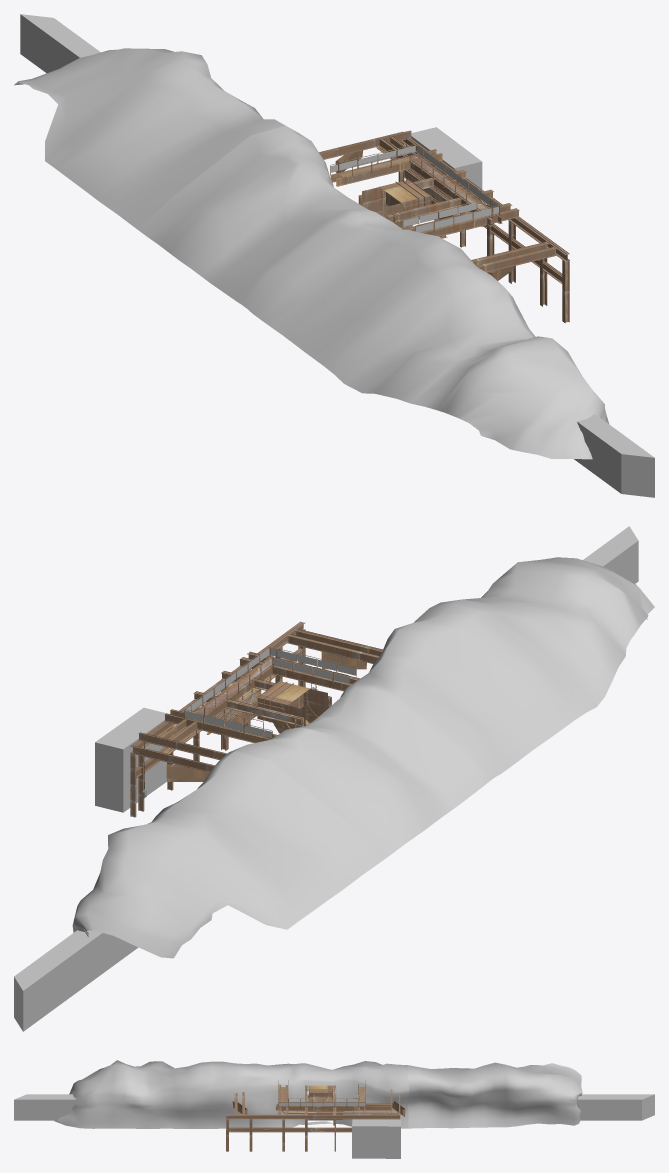
Rendered from AutoCarguio_mod5.fbx.
3 views of the same model, one above another, from view 1: azimuth 30°, elevation 25°; view 2: azimuth 150°, elevation 25°; view 3: azimuth 270°, elevation 25° (orthographic). The views are drawn at different scales.
Parts seen in each view (by area): view 1: Terreno, Estructura, Muro4, Rejillas, AutoCarguio, Containers04; view 2: Terreno, Estructura, Muro4, Containers04, Rejillas, AutoCarguio; view 3: Terreno, Estructura, Muro4, Containers04, AutoCarguio, Rejillas.
Boxes of the visible parts, <box> form: Terreno: <box>14,48,609,459</box>; Estructura: <box>319,130,569,323</box>; Muro4: <box>20,14,654,497</box>; Rejillas: <box>331,145,498,232</box>; AutoCarguio: <box>362,178,431,228</box>; Containers04: <box>411,127,482,214</box>; Terreno: <box>72,557,654,958</box>; Estructura: <box>130,621,382,817</box>; Muro4: <box>14,526,638,1031</box>; Containers04: <box>95,707,168,812</box>; Rejillas: <box>185,648,356,738</box>; AutoCarguio: <box>257,680,328,733</box>; Terreno: <box>54,1060,582,1128</box>; Estructura: <box>226,1080,405,1151</box>; Muro4: <box>14,1094,654,1120</box>; Containers04: <box>352,1119,400,1158</box>; AutoCarguio: <box>308,1085,333,1103</box>; Rejillas: <box>279,1102,365,1105</box>.
Size of what is drawn, in the model's own units: 2530 by 873 by 9226.
